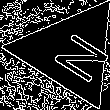N_NW: (34, 22, 105, 83)
